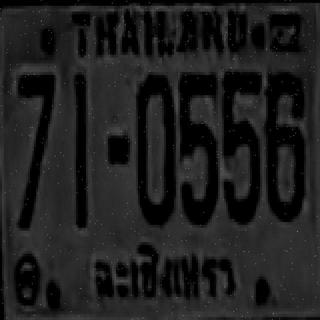N00: (136, 72, 174, 222)
N01: (74, 74, 86, 218)
N05: (222, 69, 260, 222), (179, 72, 217, 222)
N06: (264, 71, 304, 218)
N07: (16, 72, 54, 225)
P07: (85, 240, 242, 302)
